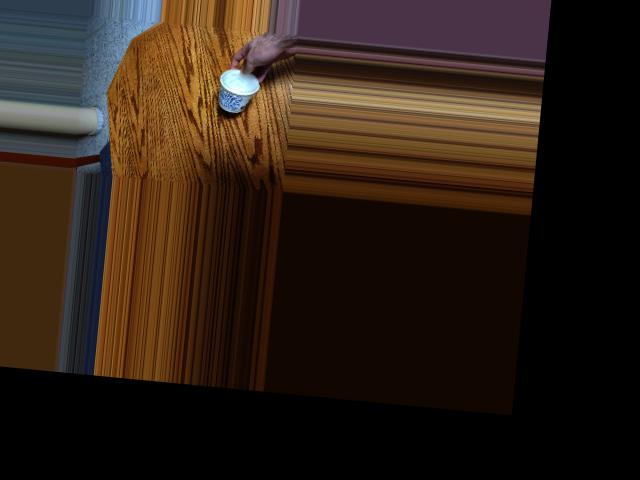cotage: (217, 64, 267, 117)
